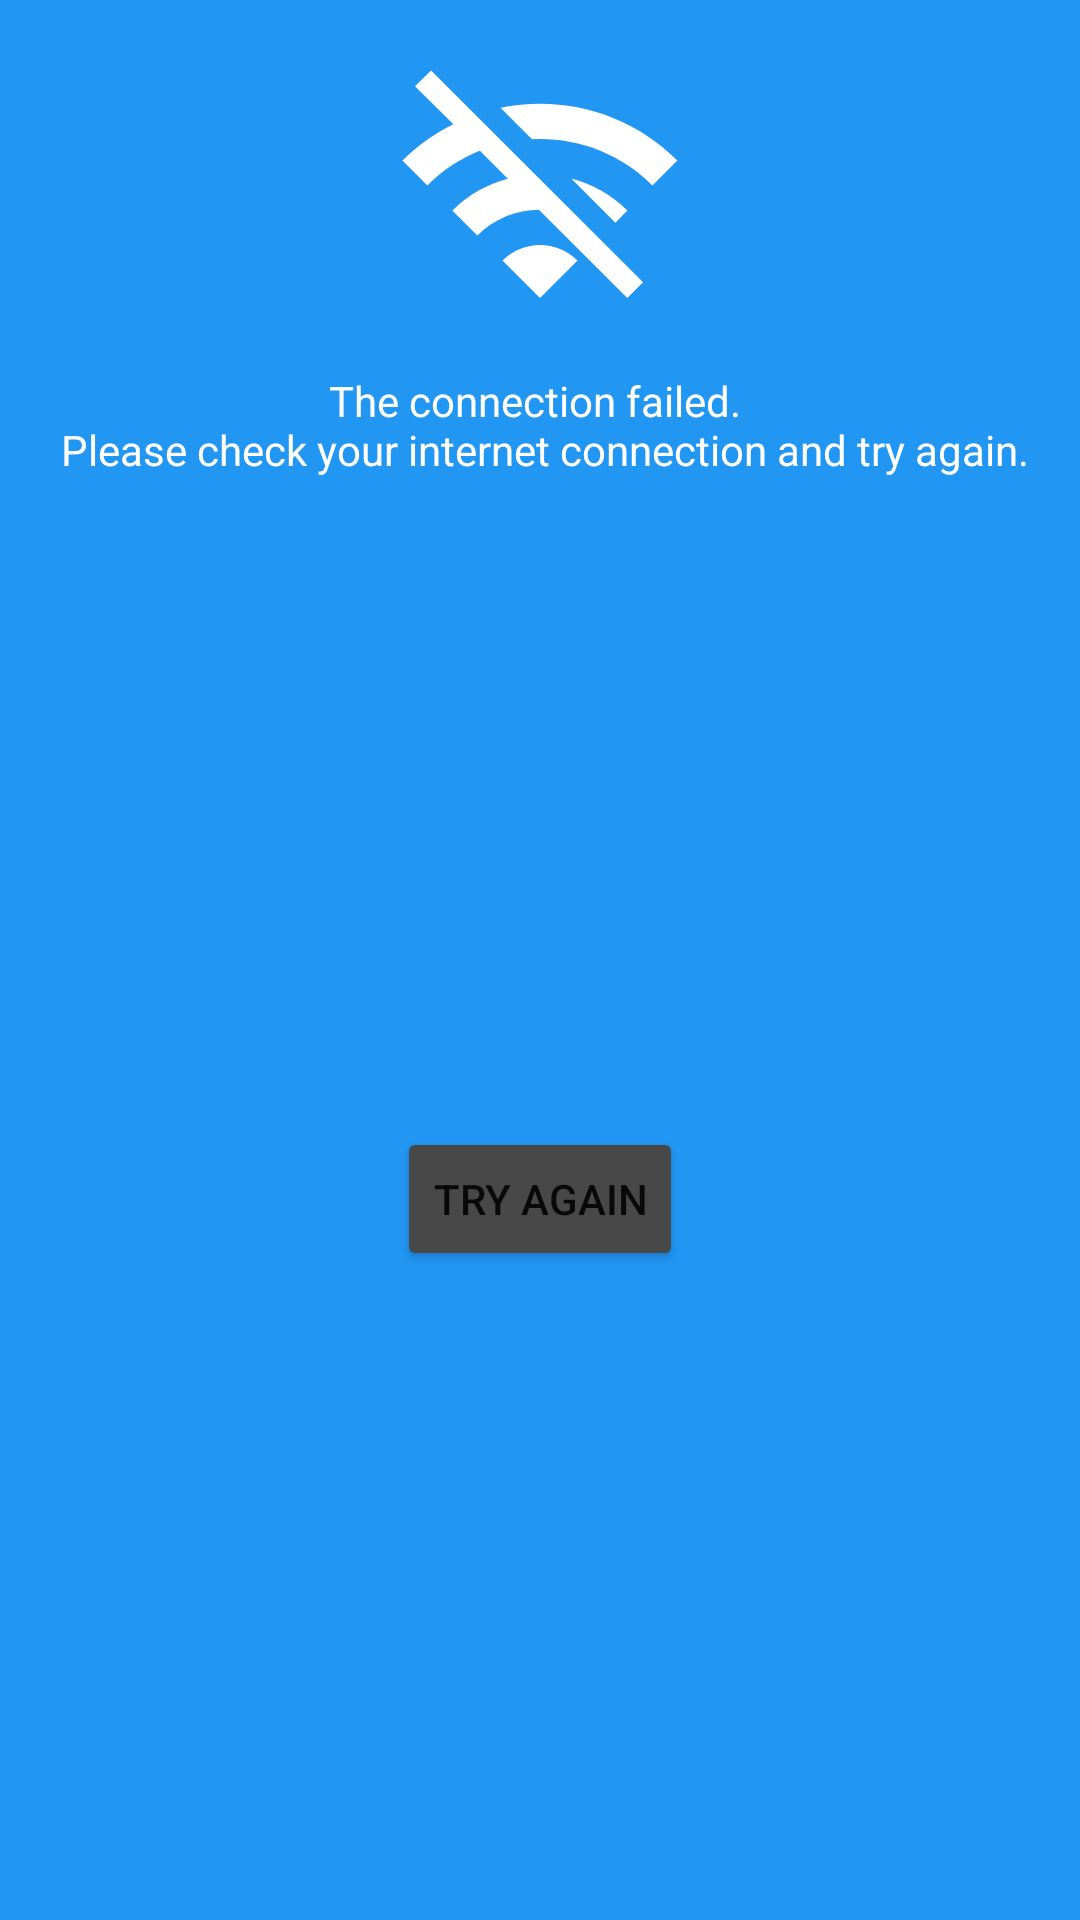

Where to tap for icons on this 1080w x 1920h app screen, as point (x, y):
No Wifi Connection-Image: point (540, 184)
